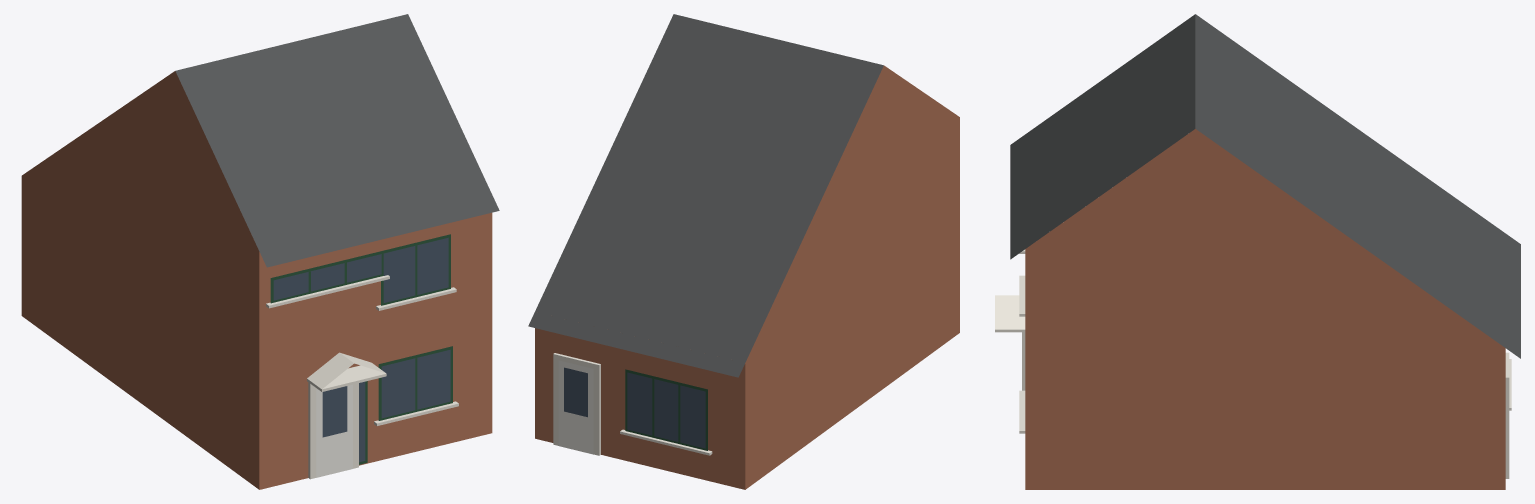
File: zo-ho-hood__green-frames__2__gable__long__solid.glb
The picture shows the model from 3 angles, left to right: view 1: azimuth 30°, elevation 25°; view 2: azimuth 150°, elevation 25°; view 3: azimuth 270°, elevation 25°; orthographic projection. The views are drawn at different scales.
Visible parts, largest first — view 1: zo-ho-hood__green-frames__2__gable__long__solid; view 2: zo-ho-hood__green-frames__2__gable__long__solid; view 3: zo-ho-hood__green-frames__2__gable__long__solid.
Part boxes in pixels (x1=…): zo-ho-hood__green-frames__2__gable__long__solid: x1=21, y1=14, x2=499, y2=489; zo-ho-hood__green-frames__2__gable__long__solid: x1=528, y1=14, x2=959, y2=489; zo-ho-hood__green-frames__2__gable__long__solid: x1=995, y1=14, x2=1520, y2=489.
Bounding box in the file's own units: 5.39 × 7.91 × 10.43.
